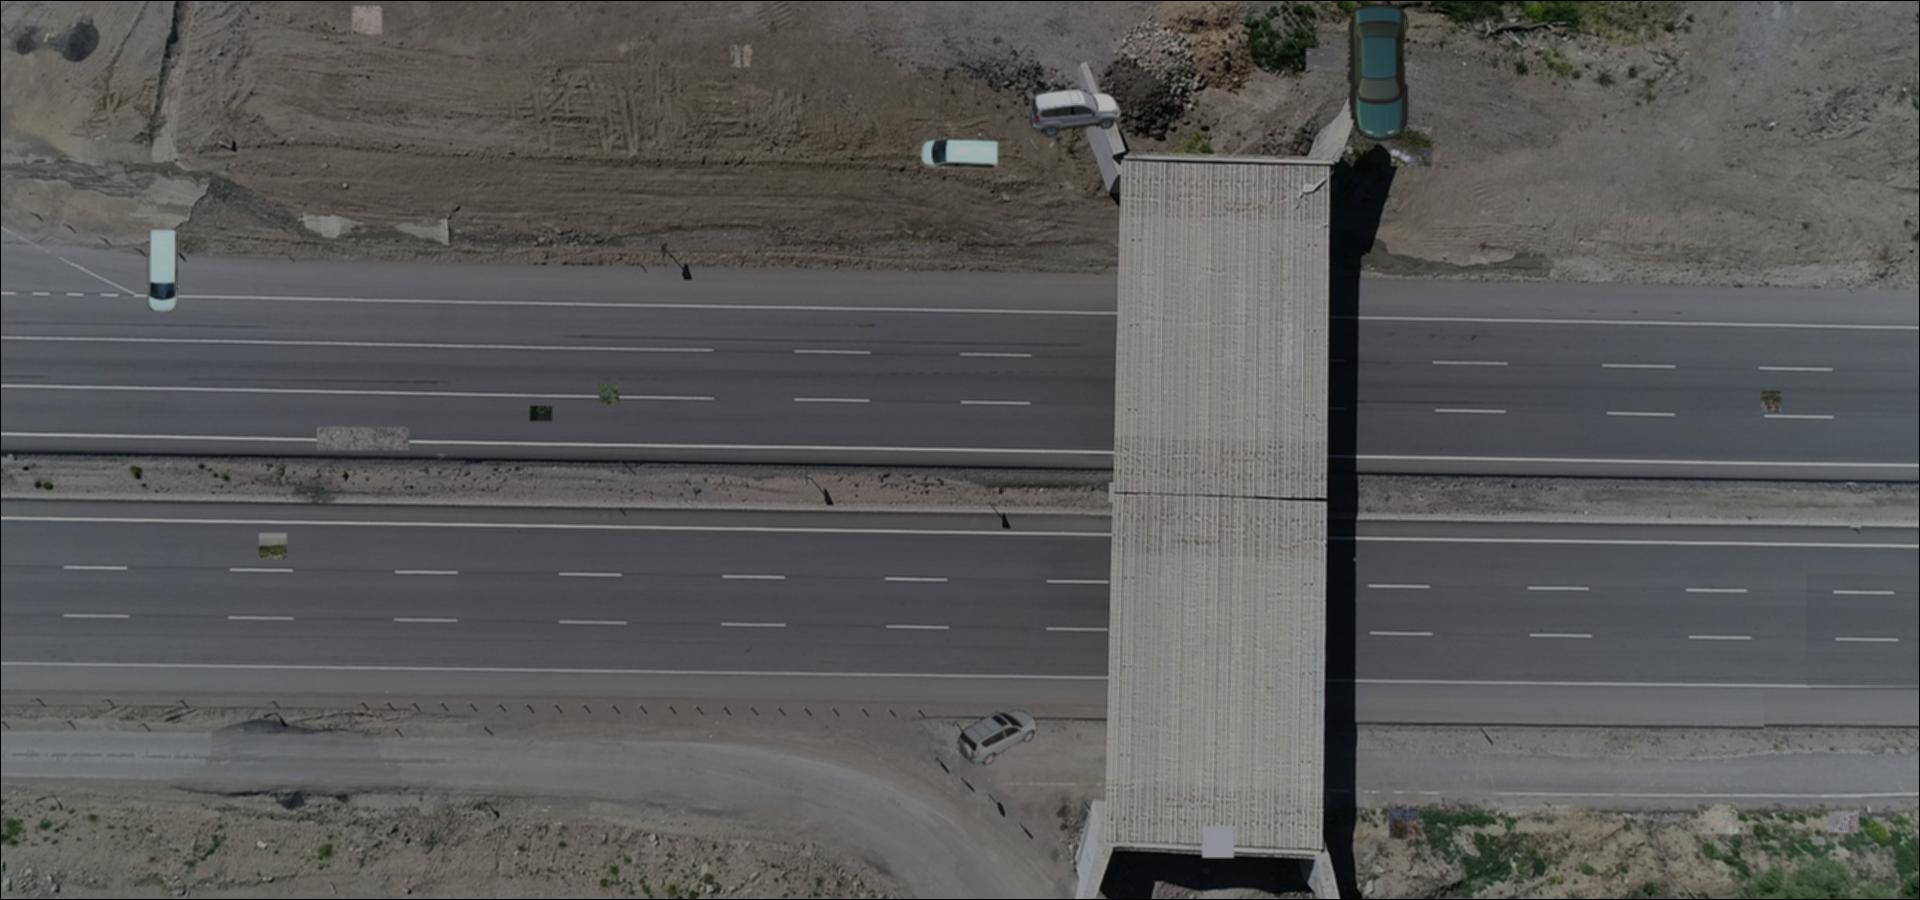arac: (1347, 4, 1408, 141), (1029, 86, 1124, 140), (958, 707, 1037, 767), (144, 227, 184, 313), (920, 137, 1002, 171)
